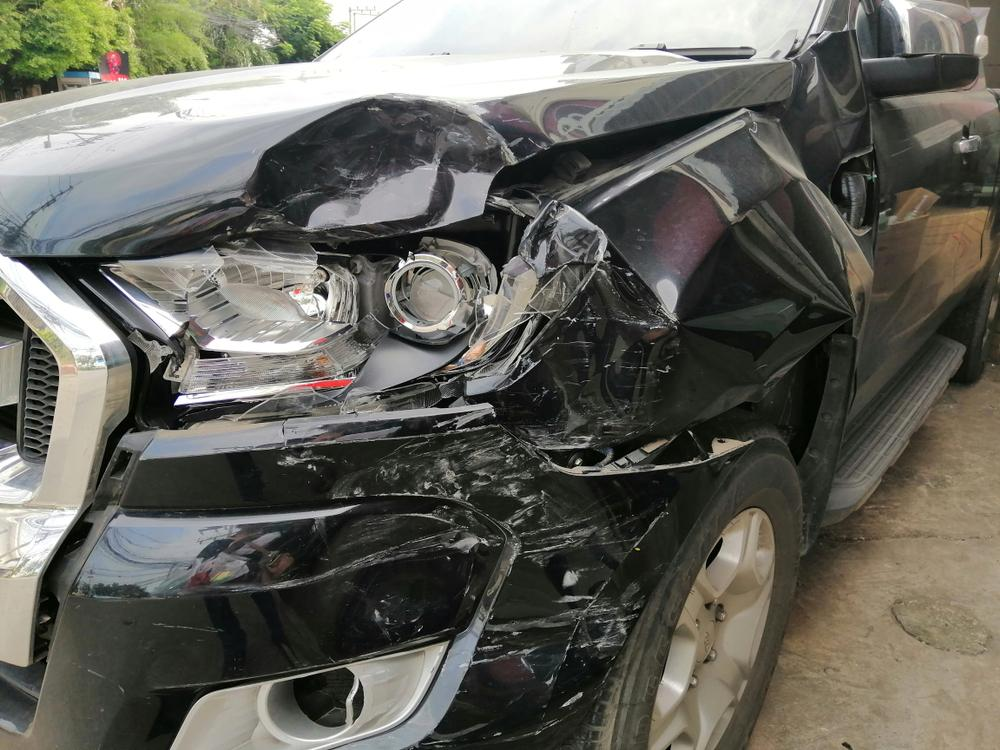dent: (241, 96, 515, 240), (492, 247, 682, 442), (749, 35, 875, 201)
lamp broken: (110, 200, 529, 420)
scratch: (278, 415, 650, 695)
